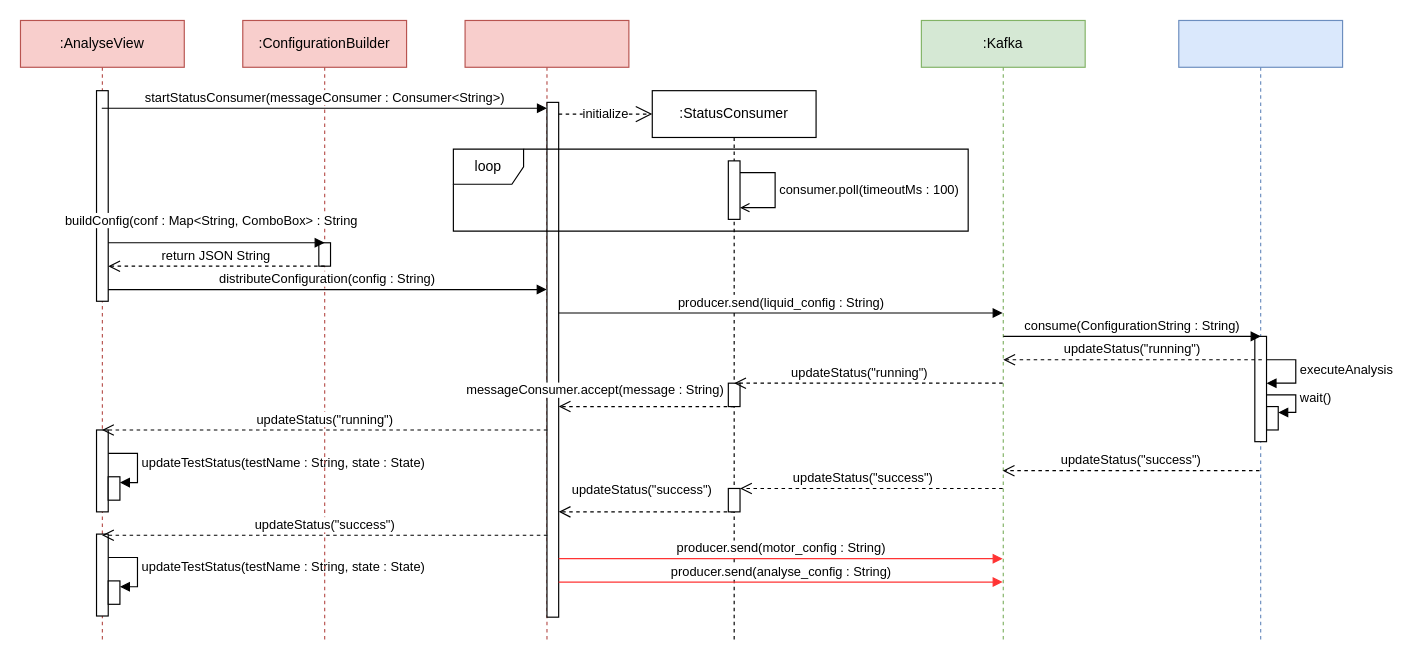
The diagram is 1415 pixels wide and 661 high, and some of its shapes have lost their labels. Here are the shapes that lost their labels. From the top down, the centre of each, then its label:
At (546,330): ":KafkaController".
At (1260,330): ":AlgorithmComponent".
